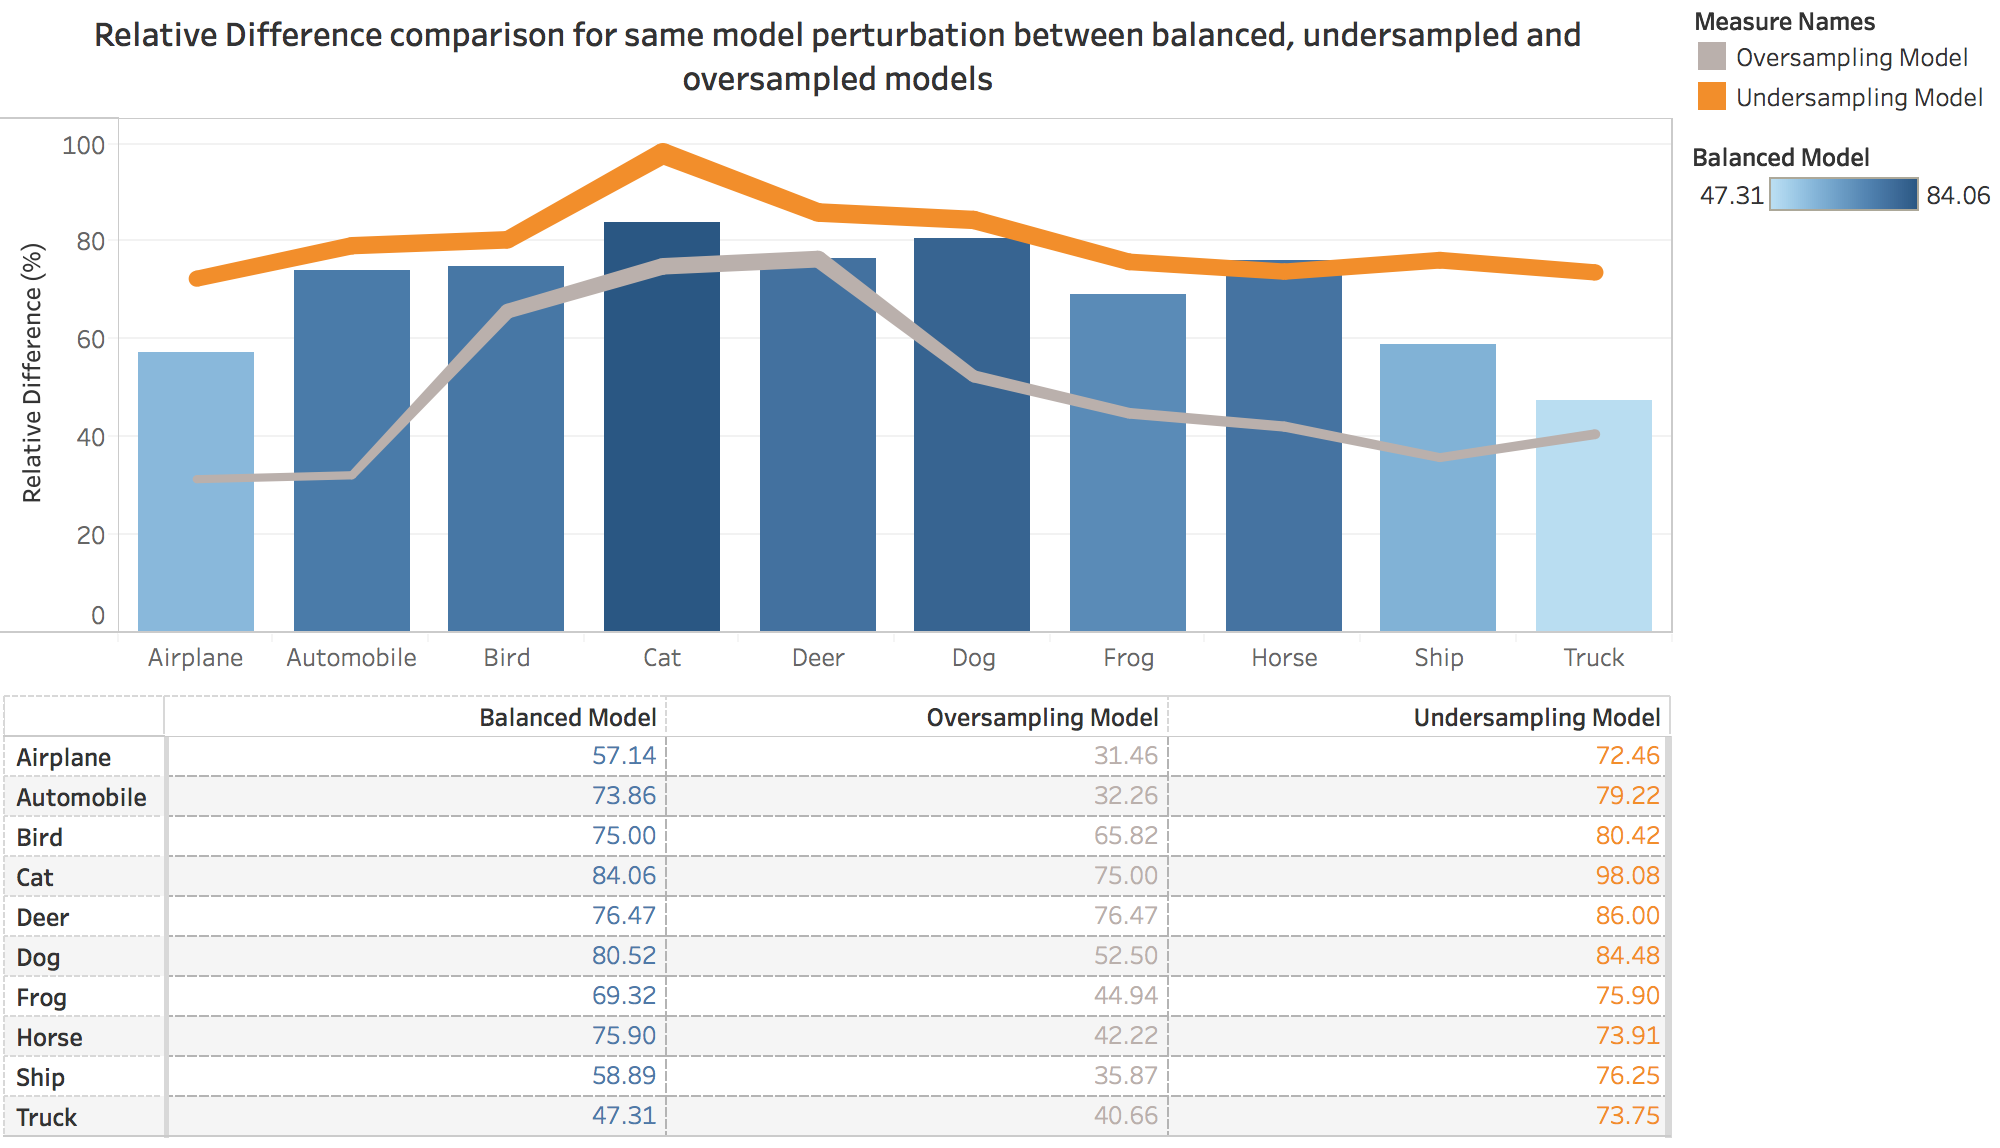

Layout of this report page (visuals, bound fields, positions):
{"tool":"tableau","page":{"name":"Dashboard 2","canvas":[1016,590],"ordinal":1},"visuals":[{"type":"worksheet","title":"Sheet 4","mark":"Line","rows":["Calculation_251216428453289986"],"cols":["F1"],"box":[0,0,850,350]},{"type":"legend","title":"Sheet 4","param":"[federated.0b02kaf1aqzqf712773081u4tukv].[:Measure Names]","box":[850,0,166,70]},{"type":"legend","title":"Sheet 4","param":"[federated.0b02kaf1aqzqf712773081u4tukv].[sum:Calculation_251216428453289986:qk]","box":[850,70,166,65]},{"type":"worksheet","title":"Sheet 5","mark":"Automatic","rows":["F1"],"box":[0,350,850,240]}]}

Visuals, with their boxes in screenshot pixels (x1, y1, x2, y2), scaled from the page's 1016x590 canvas onto the 2000x1148 screenshot:
"Sheet 4" worksheet (Line marks): rect(0, 0, 1673, 681)
"Sheet 4" legend: rect(1673, 0, 1999, 136)
"Sheet 4" legend: rect(1673, 136, 1999, 263)
"Sheet 5" worksheet: rect(0, 681, 1673, 1147)
